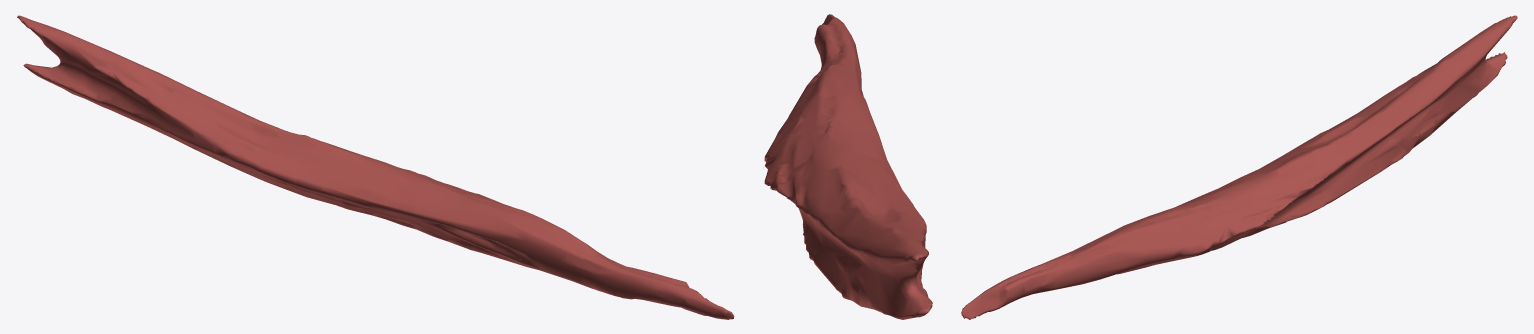
Rendered from FMA37484.glb.
3 renders of one model, left to right at view 1: azimuth 30°, elevation 25°; view 2: azimuth 150°, elevation 25°; view 3: azimuth 270°, elevation 25°, orthographic. The views are drawn at different scales.
Parts seen in each view (by area): view 1: FMA37484; view 2: FMA37484; view 3: FMA37484.
Boxes of the visible parts, x1=… form: FMA37484: x1=17, y1=15, x2=734, y2=319; FMA37484: x1=764, y1=14, x2=932, y2=319; FMA37484: x1=961, y1=15, x2=1517, y2=319.
Size of the model in its own units: 0.035 by 0.0141 by 0.0501.
